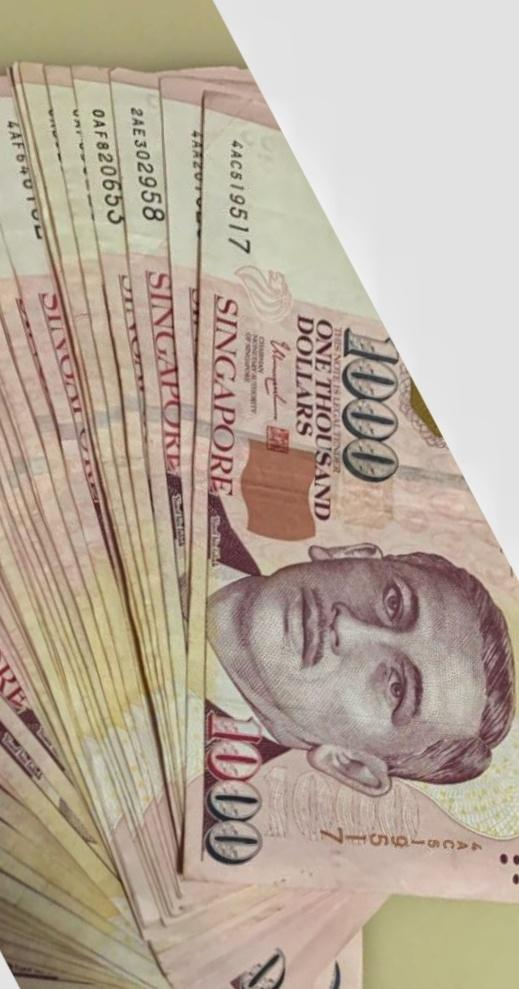1000SingaporeDollar: (207, 104, 519, 875)
